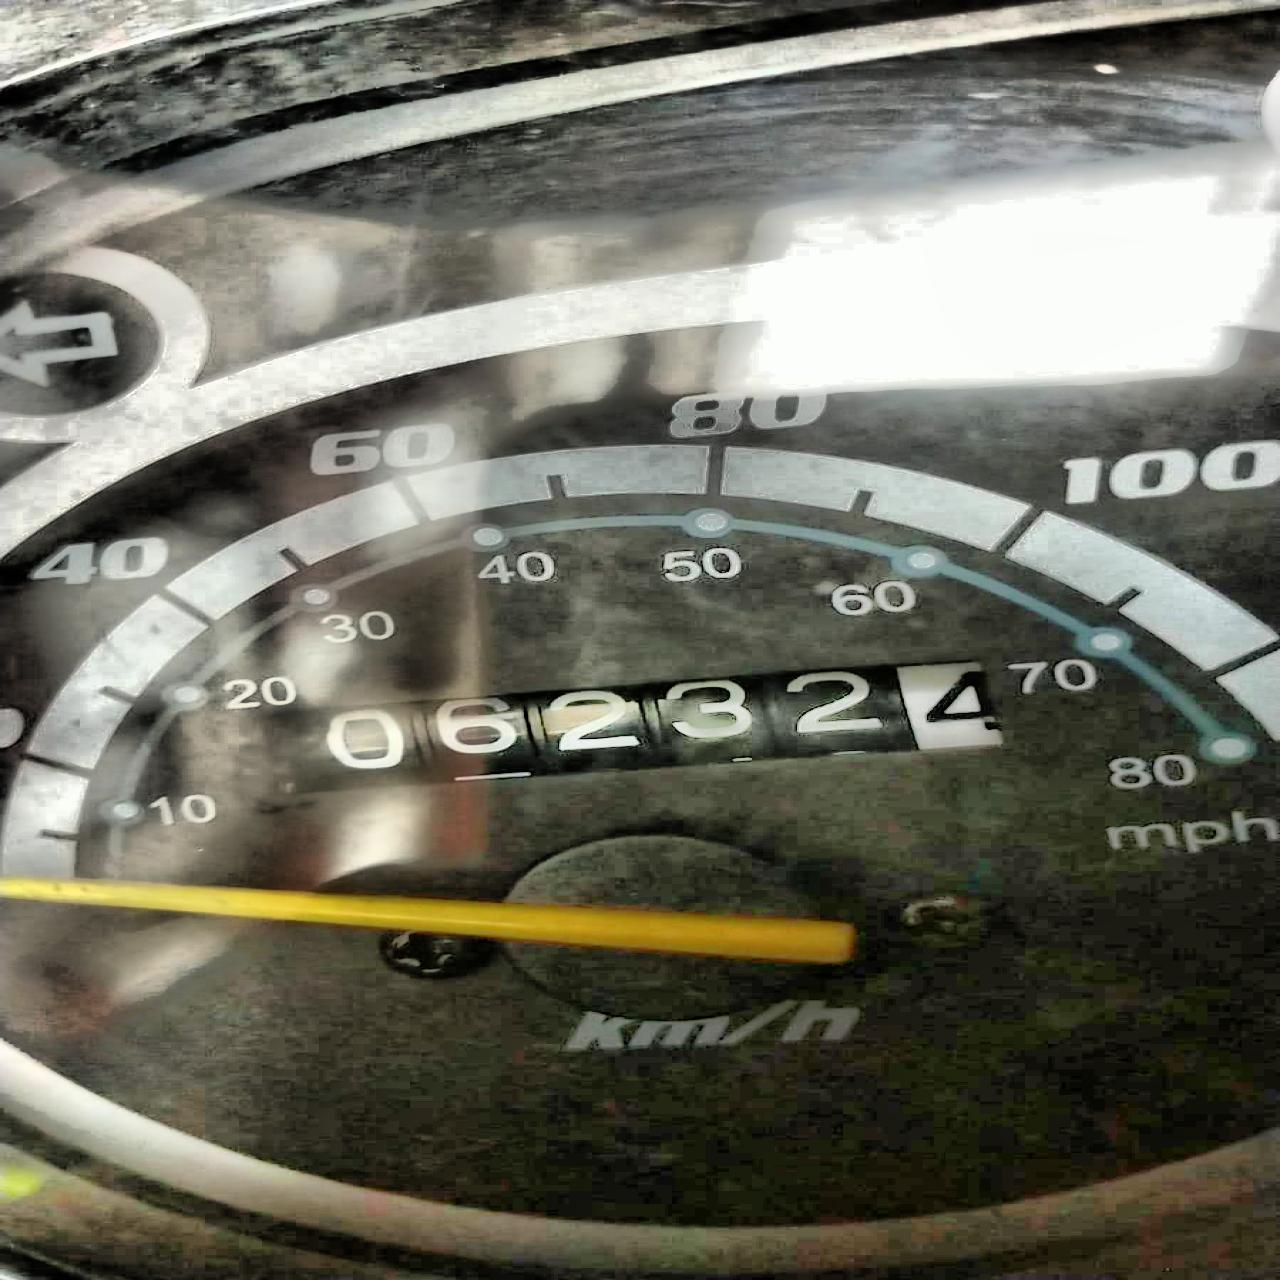0: (320, 706, 411, 771), (260, 675, 301, 709)
2: (781, 668, 886, 735), (545, 687, 644, 751)
3: (661, 676, 756, 742)
4: (911, 666, 1003, 738)
6: (427, 695, 524, 756)
odometer: (256, 651, 1012, 799)
